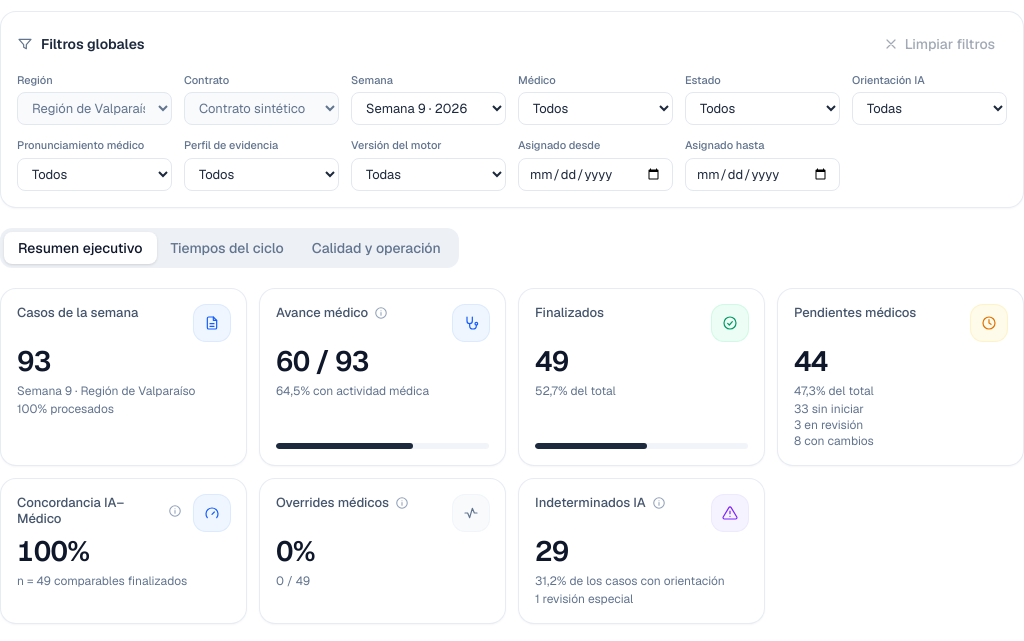
Test case: Dashboard ejecutivo · tiempos del ciclo › desglose y cobertura: los tramos sin registro no se estiman; sin dato no es cero
The image size is (1024, 641).
expect the element "Finalizados" is shown: met, box [518,288,765,466]
Click the tab "Tiempos del ciclo" at {"x": 227, "y": 248}, box [156,232,298,264]
(page scrolled)
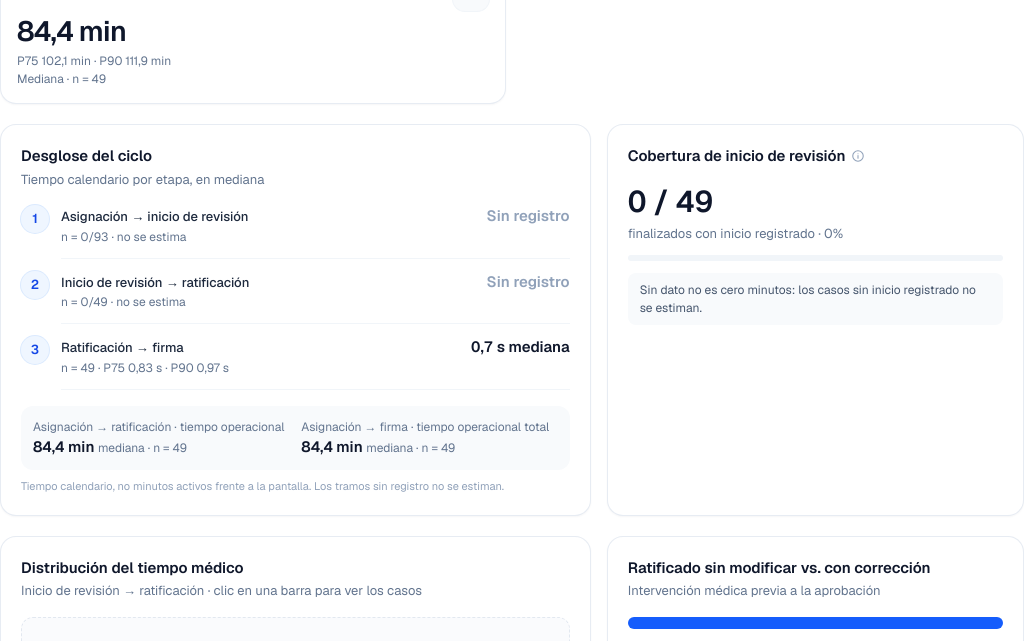
expect the text "Sin registro" is shown 2 times: met, box [487,205,570,228]; [487,270,570,293]
expect the text "0,7 s mediana" is shown: met, box [471,336,570,358]
expect the text "0 / 49" is shown: met, box [628,182,713,220]
